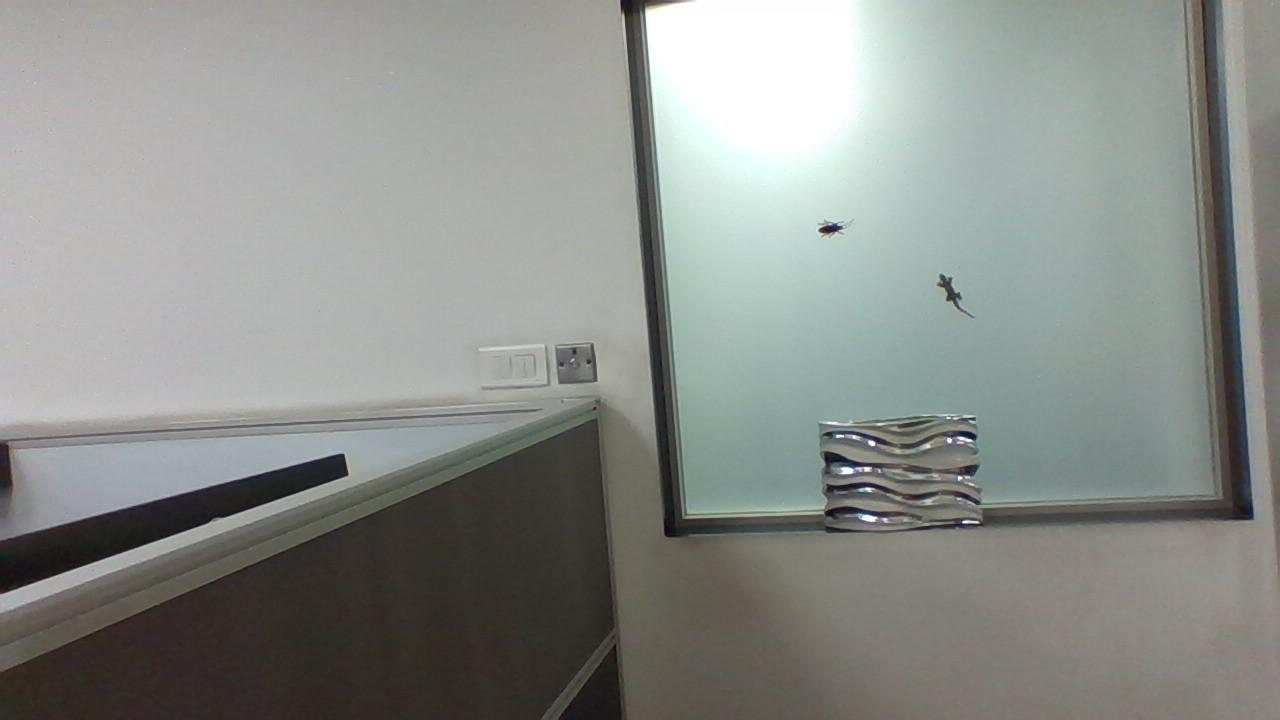cockroach: (806, 213, 862, 242)
lizard: (933, 265, 979, 321)
